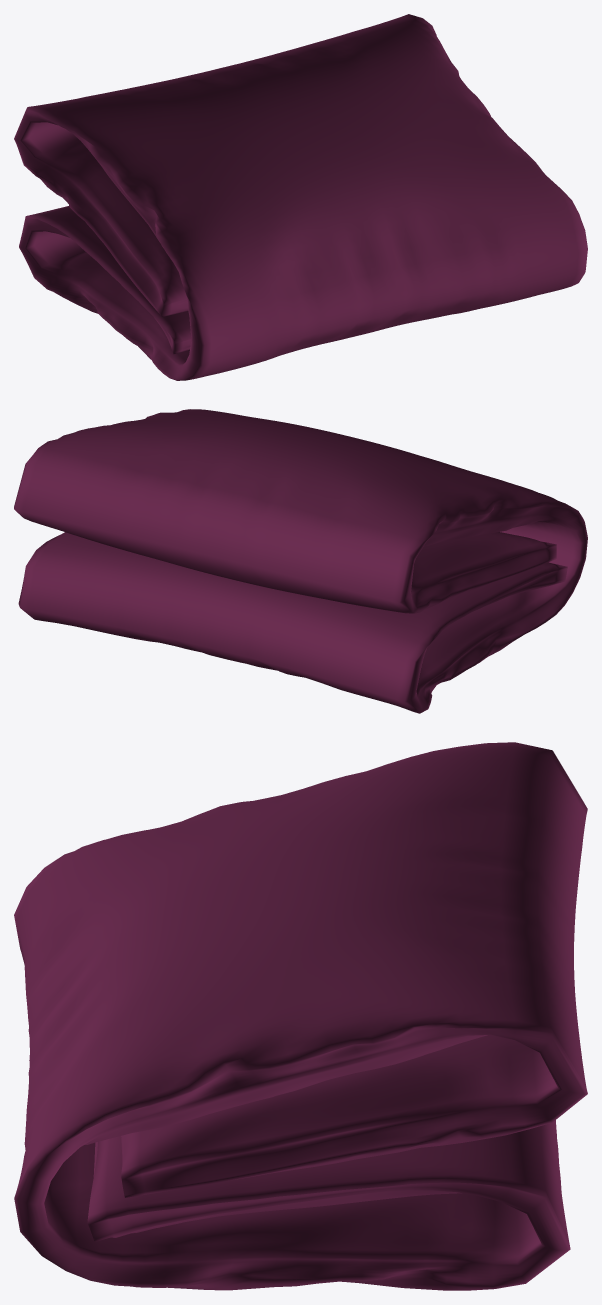
File: Blanket 1.fbx
The picture shows the model from 3 angles, top to bottom: view 1: azimuth 30°, elevation 25°; view 2: azimuth 150°, elevation 25°; view 3: azimuth 270°, elevation 25°; orthographic projection. The views are drawn at different scales.
Parts seen in each view (by area): view 1: Node 0; view 2: Node 0; view 3: Node 0.
Part boxes in pixels (bbox=[...]): Node 0: bbox=[14, 14, 587, 380]; Node 0: bbox=[14, 409, 587, 713]; Node 0: bbox=[14, 742, 587, 1290].
Bounding box in the file's own units: 0.6468 × 0.3964 × 0.7796.
